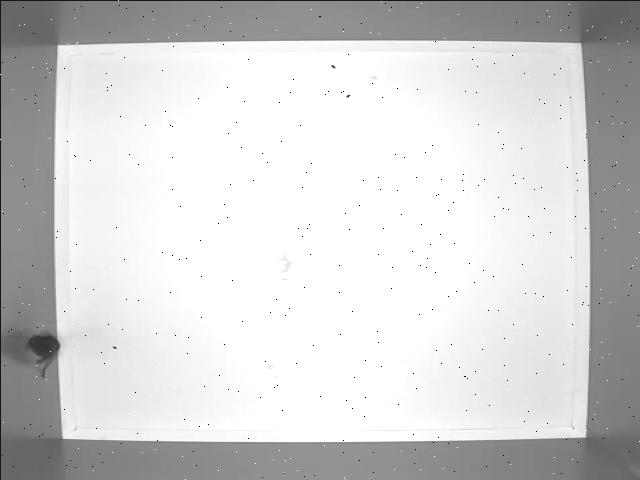Tikus: (22, 330, 60, 380)
